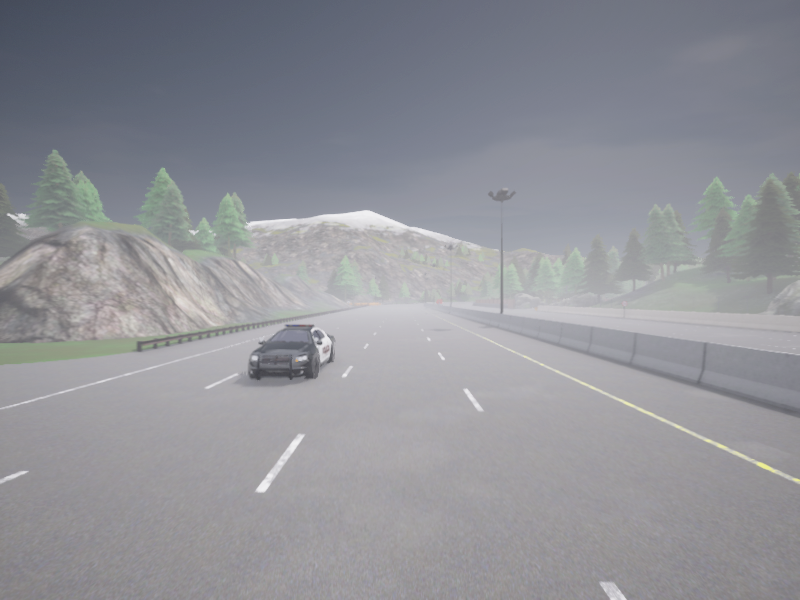vehicle: (248, 324, 334, 380), (437, 299, 442, 304)
